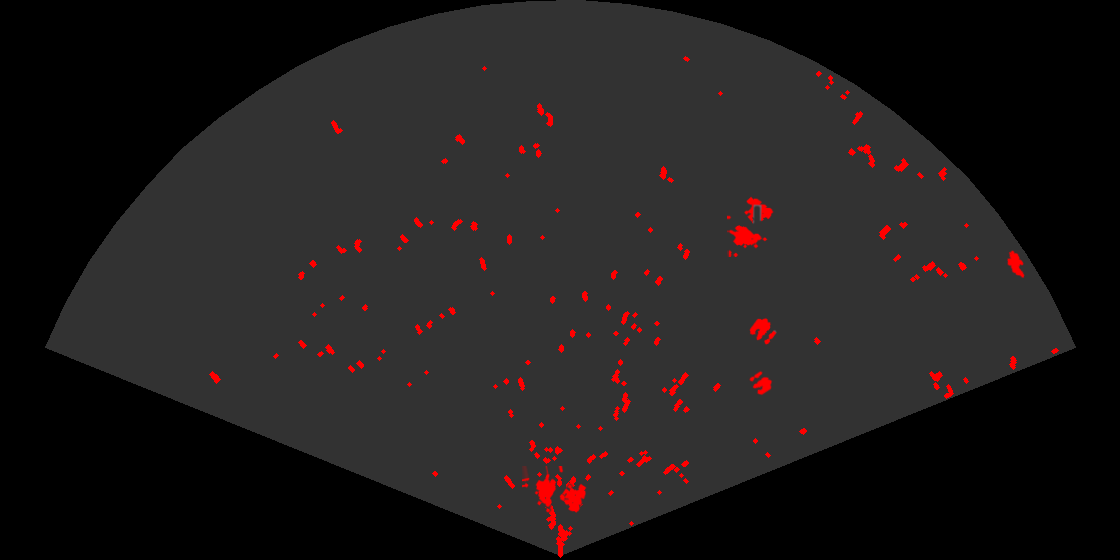AUV: (1006, 249, 1026, 280)
ball: (748, 316, 778, 346), (748, 369, 774, 397)
cage: (522, 466, 588, 514), (727, 195, 775, 257)
